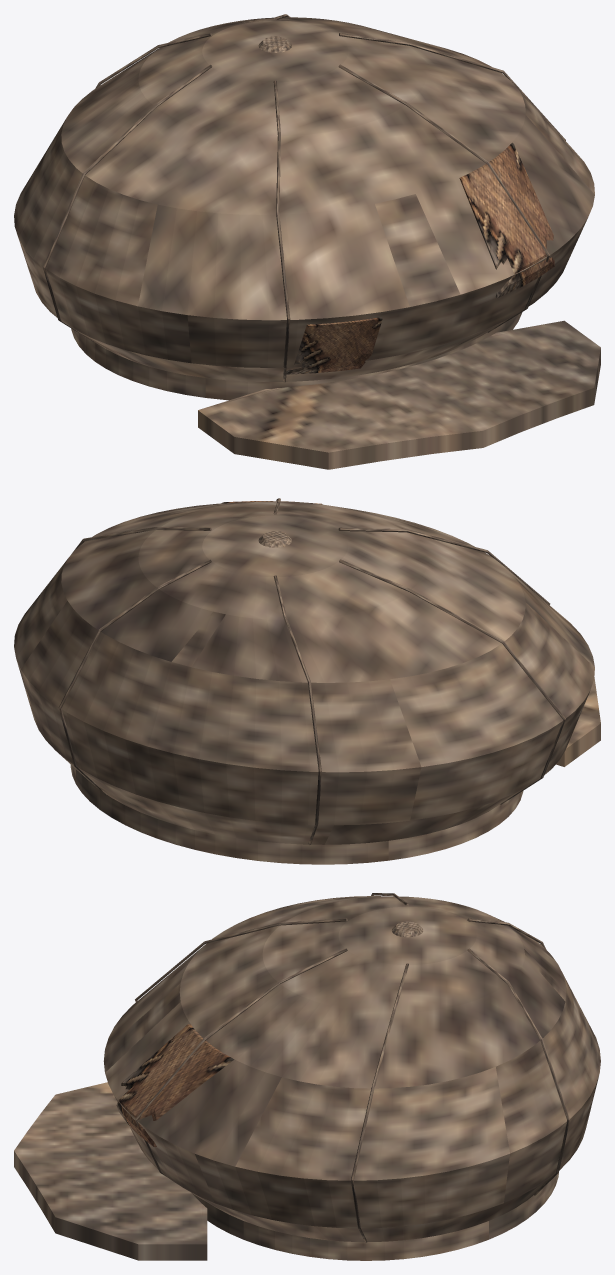
3 views of the same model, one above another, from view 1: azimuth 30°, elevation 25°; view 2: azimuth 150°, elevation 25°; view 3: azimuth 270°, elevation 25° (orthographic). The views are drawn at different scales.
Visible parts, largest first — view 1: hollow_crown_and_rim, curved_visor, sewn_patch_1, sewn_patch_0, panel_seam_3, panel_seam_5, panel_seam_4, panel_seam_0; view 2: hollow_crown_and_rim, curved_visor, panel_seam_3, panel_seam_1, panel_seam_2, panel_seam_4, panel_seam_0; view 3: hollow_crown_and_rim, curved_visor, sewn_patch_1, panel_seam_0, panel_seam_5, panel_seam_1, panel_seam_4.
Boxes of the visible parts, box(x1,y1,x2,y2) form: hollow_crown_and_rim: box(14, 17, 594, 400); curved_visor: box(198, 320, 600, 469); sewn_patch_1: box(459, 142, 554, 298); sewn_patch_0: box(283, 317, 382, 374); panel_seam_3: box(43, 64, 211, 341); panel_seam_5: box(338, 64, 550, 332); panel_seam_4: box(273, 80, 290, 382); panel_seam_0: box(339, 33, 565, 140); hollow_crown_and_rim: box(14, 501, 594, 864); curved_visor: box(556, 677, 600, 766); panel_seam_3: box(339, 559, 565, 804); panel_seam_1: box(58, 559, 211, 795); panel_seam_2: box(273, 575, 321, 844); panel_seam_4: box(338, 527, 550, 604); panel_seam_0: box(72, 527, 211, 553); hollow_crown_and_rim: box(103, 896, 600, 1260); curved_visor: box(14, 1082, 207, 1260); sewn_patch_1: box(116, 1024, 234, 1146); panel_seam_0: box(351, 963, 408, 1242); panel_seam_5: box(135, 948, 347, 1176); panel_seam_1: box(467, 948, 569, 1195); panel_seam_4: box(135, 918, 347, 1001).
Size of the model in its own units: 101 by 48.65 by 104.
4 materials, 4 textured.
